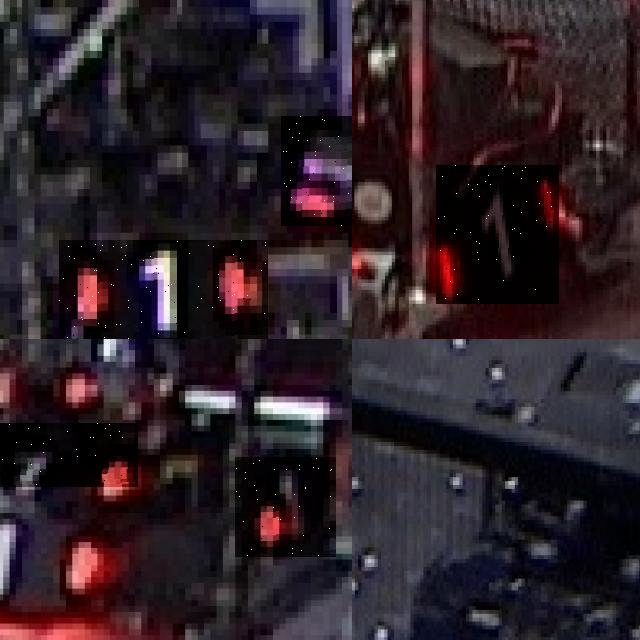R1: (59, 240, 268, 339), (436, 165, 559, 304), (0, 495, 116, 611), (235, 457, 336, 557), (0, 423, 138, 487), (280, 116, 352, 225)
